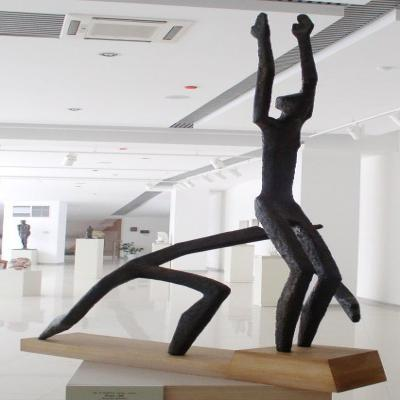sculpture: (40, 13, 361, 356)
